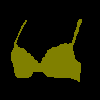reggiseno: (11, 18, 82, 82)
